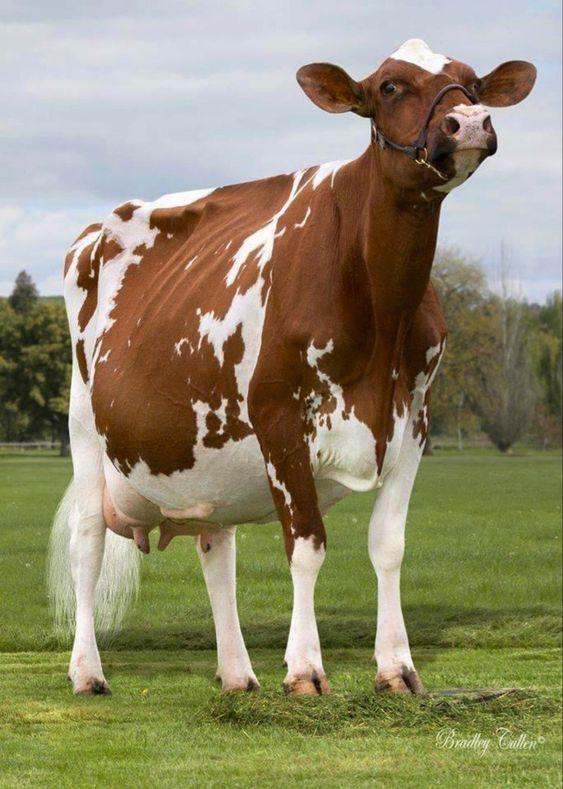cow: (23, 45, 563, 678)
